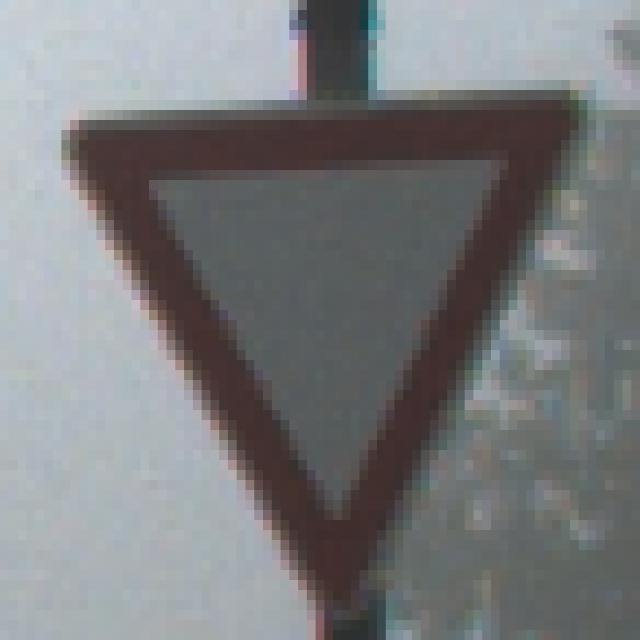Give Way: (54, 61, 580, 591)
